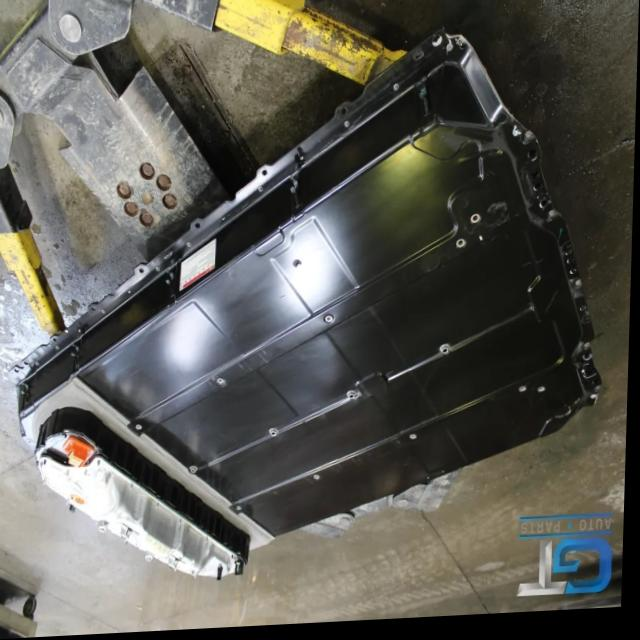Nut: (443, 347, 456, 366), (192, 466, 207, 482), (271, 429, 283, 447), (183, 244, 201, 255), (349, 394, 362, 408), (257, 188, 270, 201), (393, 87, 403, 101), (344, 120, 353, 135), (126, 288, 134, 303), (157, 268, 164, 280)
Screw: (470, 204, 485, 233), (457, 237, 473, 261), (324, 315, 340, 337), (215, 377, 231, 394), (137, 423, 150, 442), (409, 434, 421, 453), (237, 504, 249, 521), (313, 475, 327, 488), (542, 390, 552, 407), (520, 387, 530, 403)
